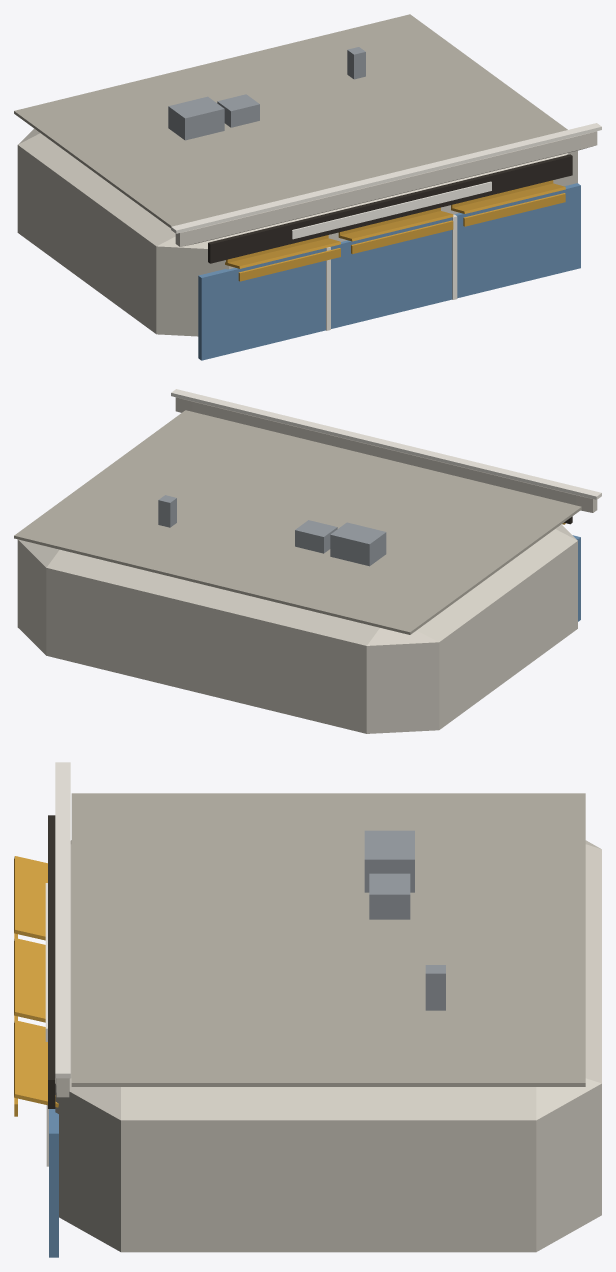
The model's file is shop_w16_f1_solid.glb.
The picture shows the model from 3 angles, top to bottom: view 1: azimuth 30°, elevation 25°; view 2: azimuth 150°, elevation 25°; view 3: azimuth 270°, elevation 25°; orthographic projection. The views are drawn at different scales.
Visible parts, largest first — view 1: roofslab, shopglass, walls, parapet, fascia, pcap, fasciatx, hvac, valance.001, valance, valance.002, awn (+5 smaller); view 2: roofslab, walls, parapet, pcap, hvac, hvac2, pipe; view 3: roofslab, walls, pcap, awn.002, awn, awn.001, hvac, fascia, hvac2, shopglass, pipe.
Boxes of the visible parts, <box> form: roofslab: <box>14,14,567,228</box>; shopglass: <box>198,183,580,360</box>; walls: <box>17,128,577,336</box>; parapet: <box>175,131,597,246</box>; fascia: <box>208,154,572,263</box>; pcap: <box>171,123,601,233</box>; fasciatx: <box>292,181,491,239</box>; hvac: <box>168,96,224,140</box>; valance.001: <box>351,220,453,254</box>; valance: <box>238,248,340,281</box>; valance.002: <box>463,193,565,226</box>; awn: <box>225,238,340,268</box>; roofslab: <box>14,410,581,634</box>; walls: <box>17,524,577,733</box>; parapet: <box>175,397,597,512</box>; pcap: <box>171,389,601,499</box>; hvac: <box>330,522,386,566</box>; hvac2: <box>295,520,337,553</box>; pipe: <box>158,495,176,527</box>; roofslab: <box>71,793,585,1086</box>; walls: <box>55,840,601,1252</box>; pcap: <box>55,762,70,1078</box>; awn.002: <box>14,1020,58,1107</box>; awn: <box>14,856,47,940</box>; awn.001: <box>14,938,45,1022</box>; hvac: <box>364,830,414,892</box>; fascia: <box>48,815,55,1108</box>; hvac2: <box>369,873,410,919</box>; shopglass: <box>49,1109,58,1257</box>; pipe: <box>425,965,445,1010</box>.
Bounding box in the file's own units: 16.16 × 5.3 × 12.91.
